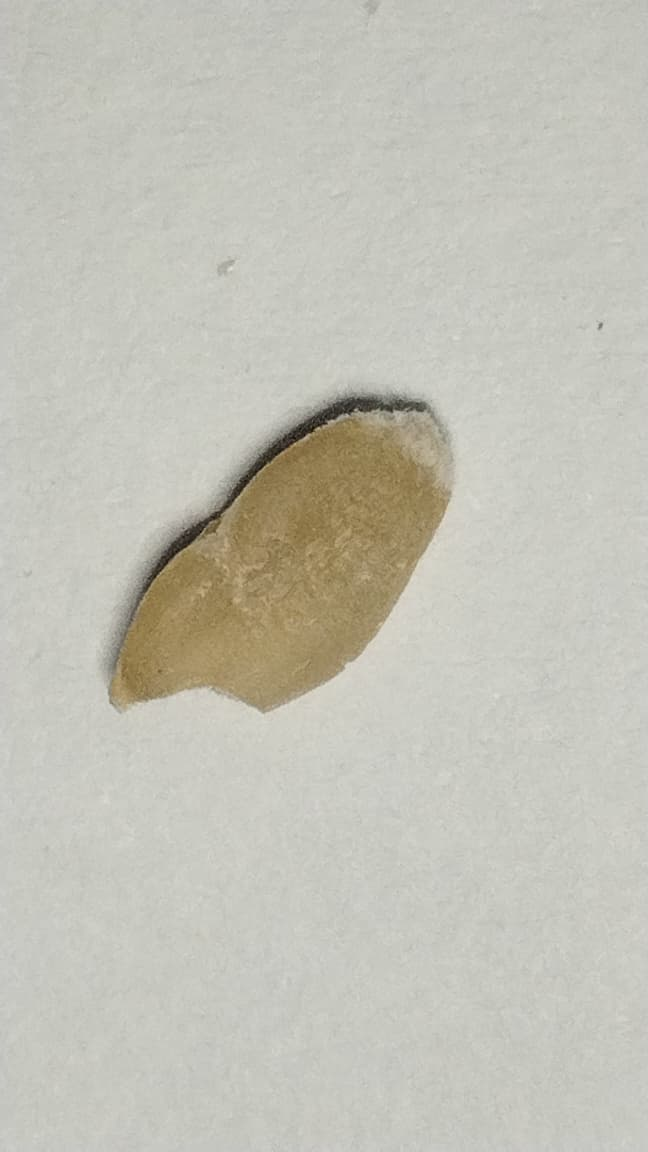damage: (110, 394, 452, 712)
insectdamage: (100, 670, 277, 746)
